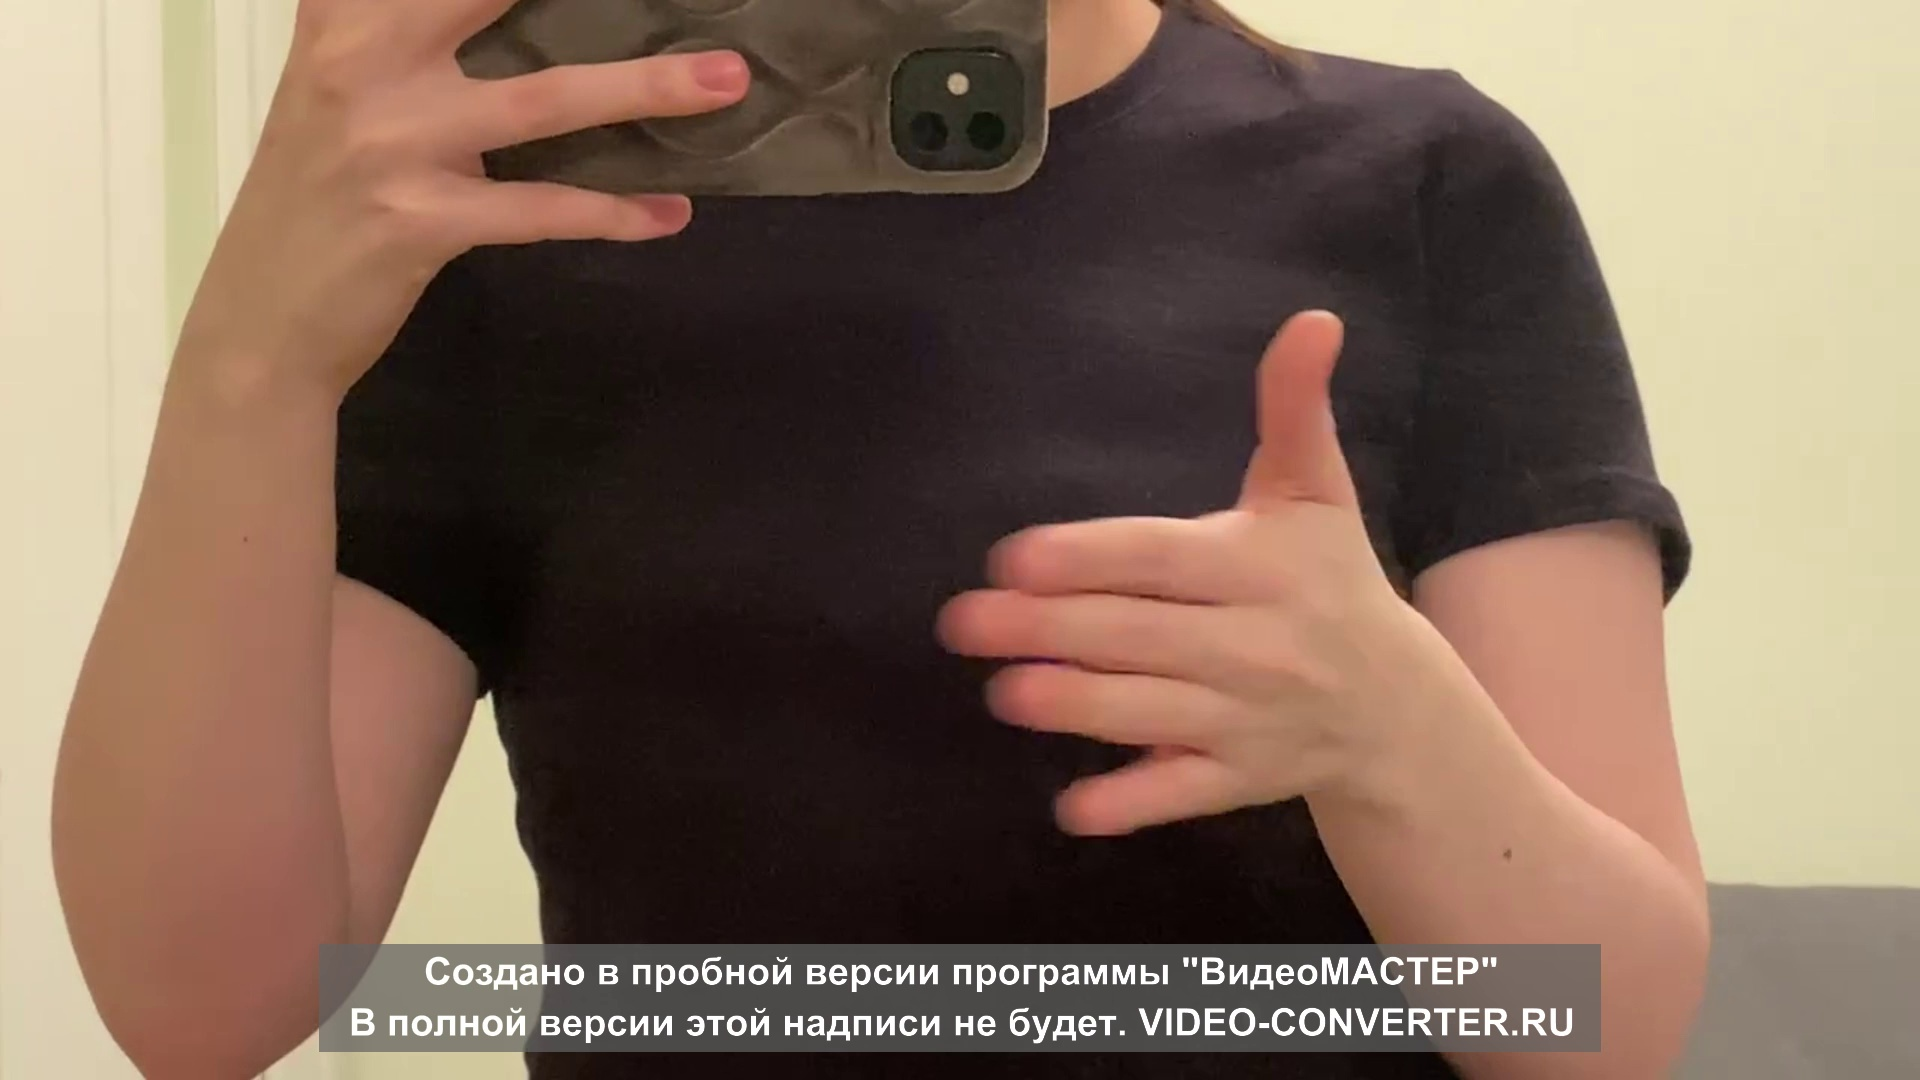Кисть: (932, 310, 1382, 831)
